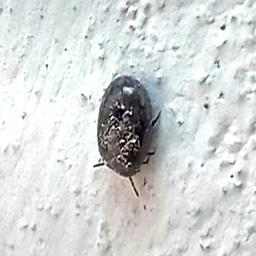Rhipicephalus sanguineus: (93, 75, 161, 197)
